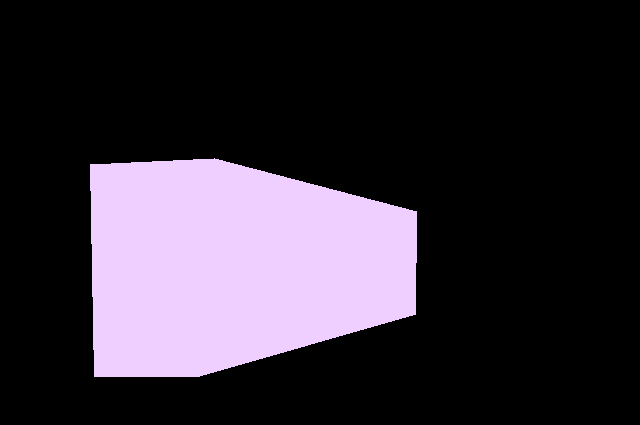Train: (90, 158, 416, 376)
